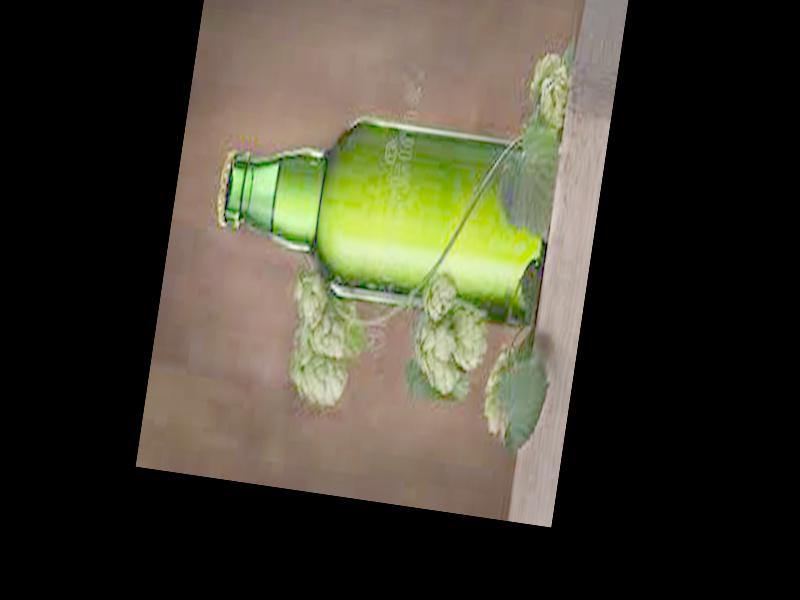Beer: (206, 96, 567, 321)
